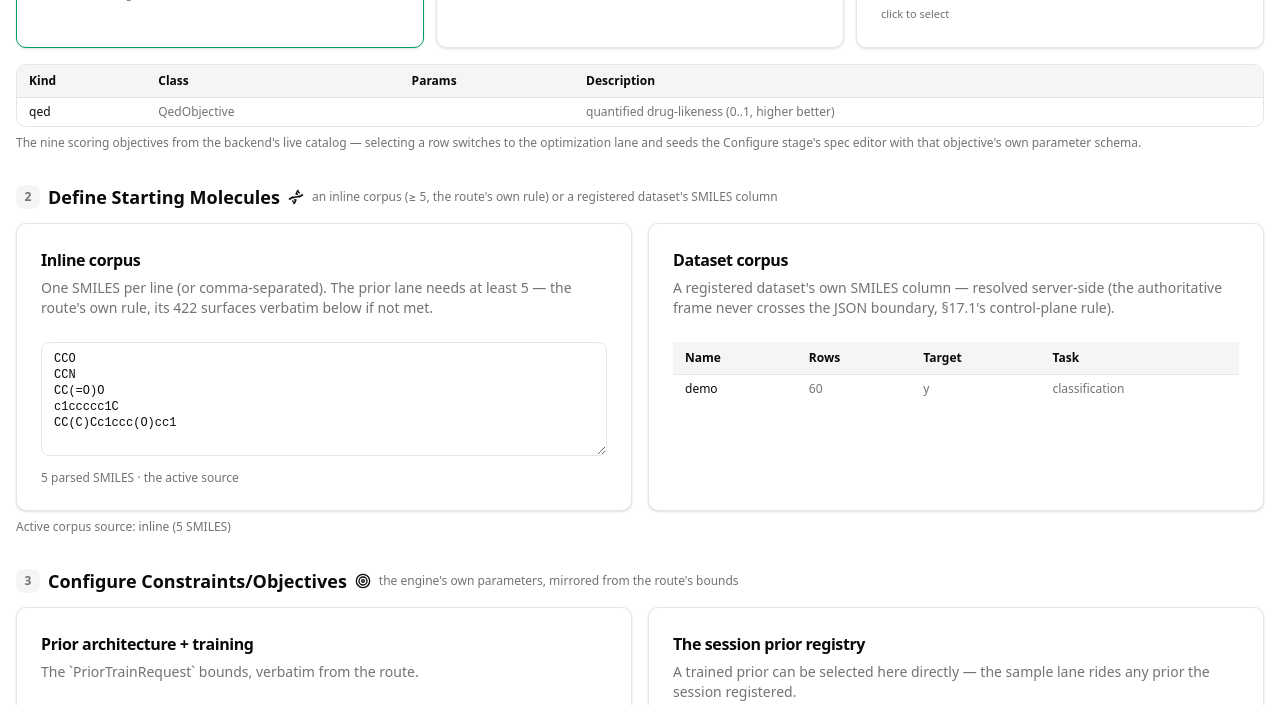
Test: the GAN lane — train, sample, the parity report › trains over the SELECTED dataset in job mode and relays the prior view
(page scrolled)
Expected: the text "demo" is shown, [685,380,718,396]
Click the text "demo" at [956, 388], box [673,374,1239,402]
(page scrolled)
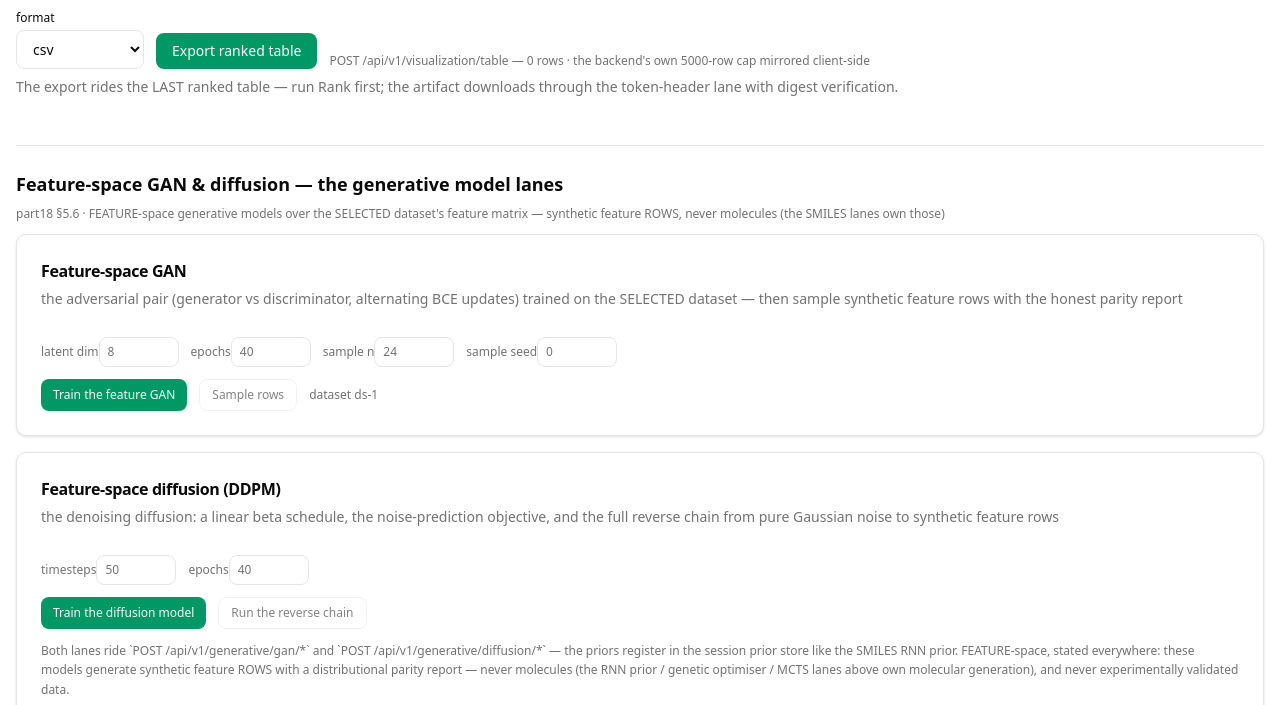
Expected: the button "Train the feature GAN" is enabled
Click the button "Train the feature GAN" at [114, 394], box [41,378,187,410]
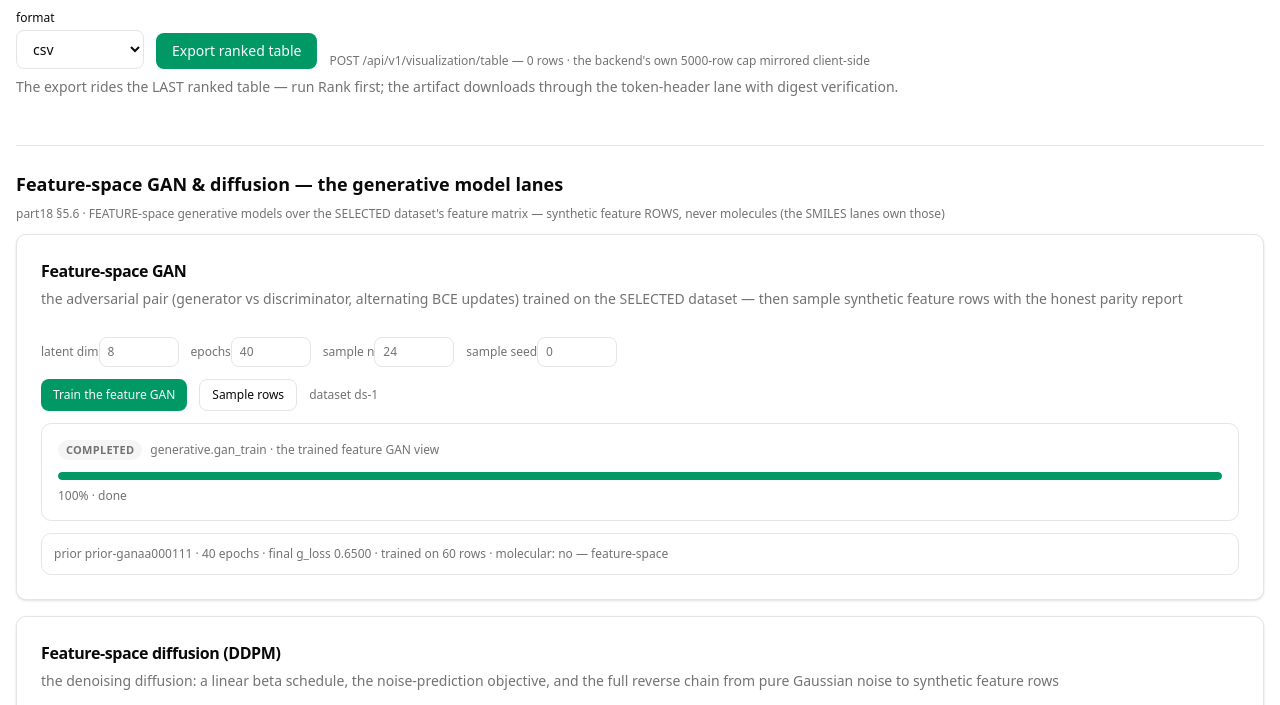
Expected: the text "prior-ganaa000111" is shown, [85,545,192,562]
Expected: the text "no — feature-space" is shown, [558,545,668,562]
